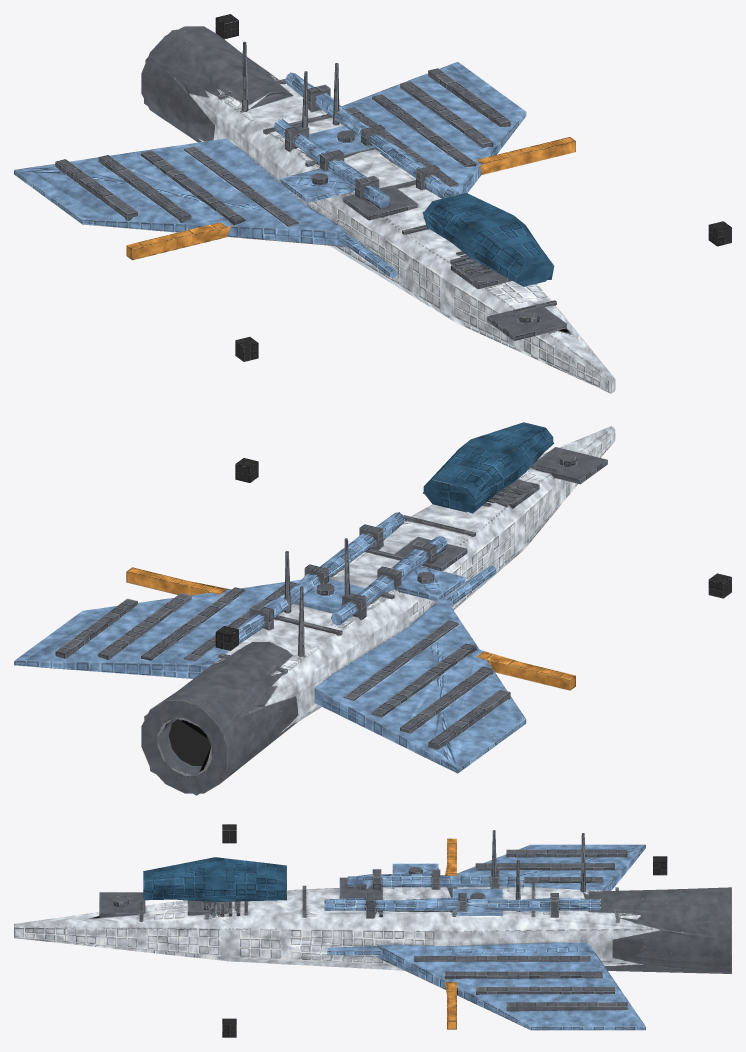
The model's file is sd_npc_courier.glb.
3 views of the same model, one above another, from view 1: azimuth 30°, elevation 25°; view 2: azimuth 150°, elevation 25°; view 3: azimuth 270°, elevation 25° (orthographic). The views are drawn at different scales.
Visible parts, largest first — view 1: LOD0_body, LOD1_body; view 2: LOD0_body, LOD1_body; view 3: LOD0_body, LOD1_body.
Boxes of the visible parts, x1,y1,x2,y2 form: LOD0_body: (14,14,731,393); LOD1_body: (21,28,611,393); LOD0_body: (14,422,731,793); LOD1_body: (15,426,611,795); LOD0_body: (14,824,731,1037); LOD1_body: (14,840,731,1028).
Size of the model in its own units: 0.66 by 0.2016 by 1.
1 material, 1 textured.
